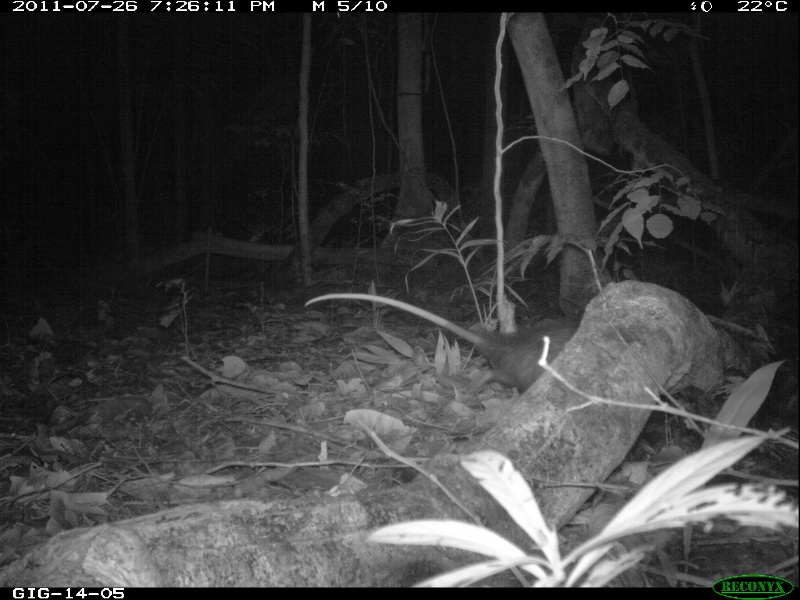opossum: (308, 287, 579, 389)
